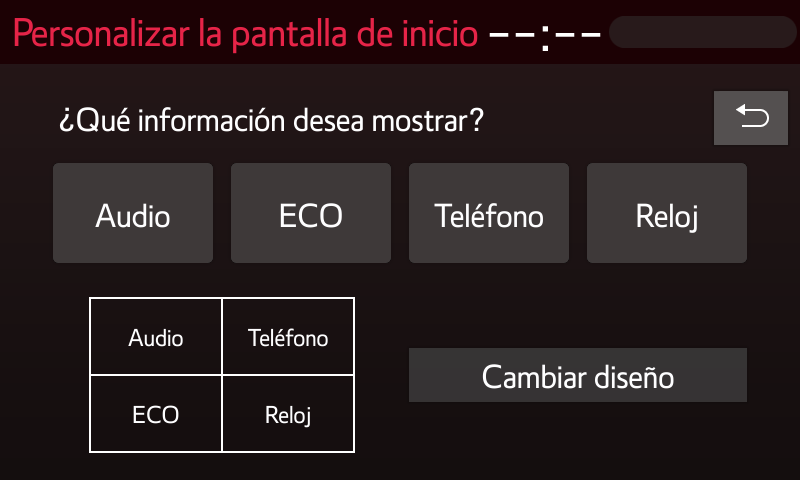touchPart: (405, 342, 751, 408), (582, 158, 758, 268), (229, 157, 396, 269), (409, 160, 573, 268), (51, 160, 217, 266), (710, 88, 789, 149)
untouchPart: (14, 10, 478, 50), (490, 6, 798, 53)
